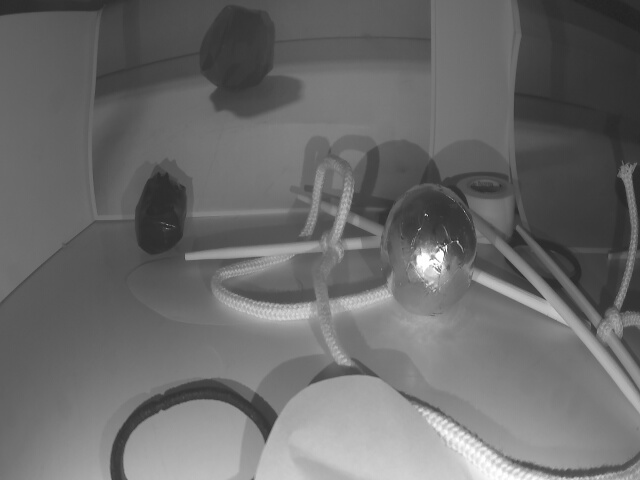Dead: (130, 177, 188, 253)
Live: (379, 180, 479, 318)
